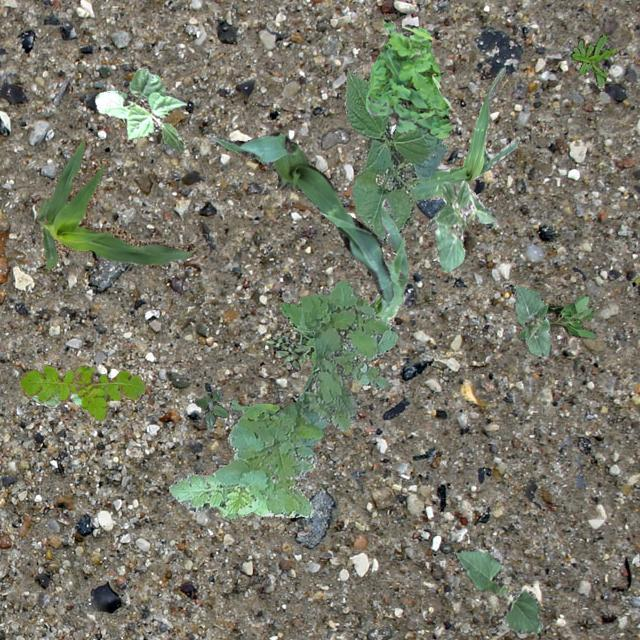crop: (205, 132, 392, 300), (32, 136, 196, 270), (343, 70, 448, 242), (409, 66, 518, 228), (94, 66, 186, 150), (454, 546, 540, 632), (434, 178, 496, 272), (366, 198, 406, 324), (514, 284, 550, 356), (30, 388, 81, 408)
weed: (168, 280, 396, 518), (364, 15, 450, 136), (18, 364, 146, 421), (516, 294, 596, 339), (570, 34, 614, 86), (280, 302, 314, 364), (266, 334, 304, 370), (194, 388, 228, 428)
